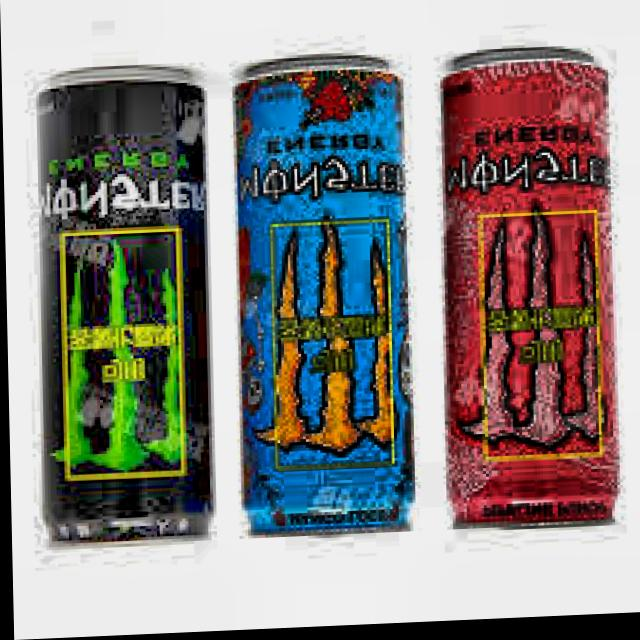can: (27, 55, 225, 561), (223, 51, 423, 550), (428, 44, 624, 547)
